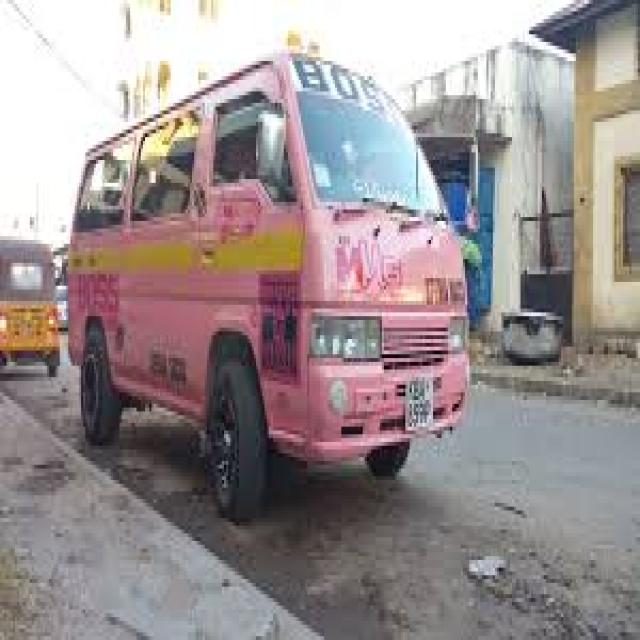matatu: (52, 12, 524, 546)
